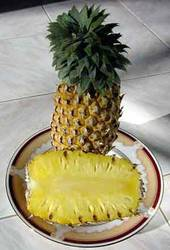pineapple: (44, 1, 133, 155), (24, 149, 149, 229)
